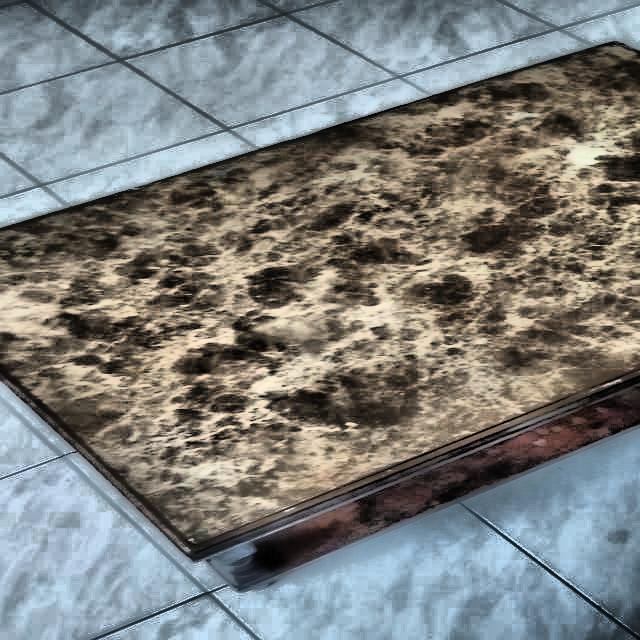mesa: (0, 34, 640, 590)
